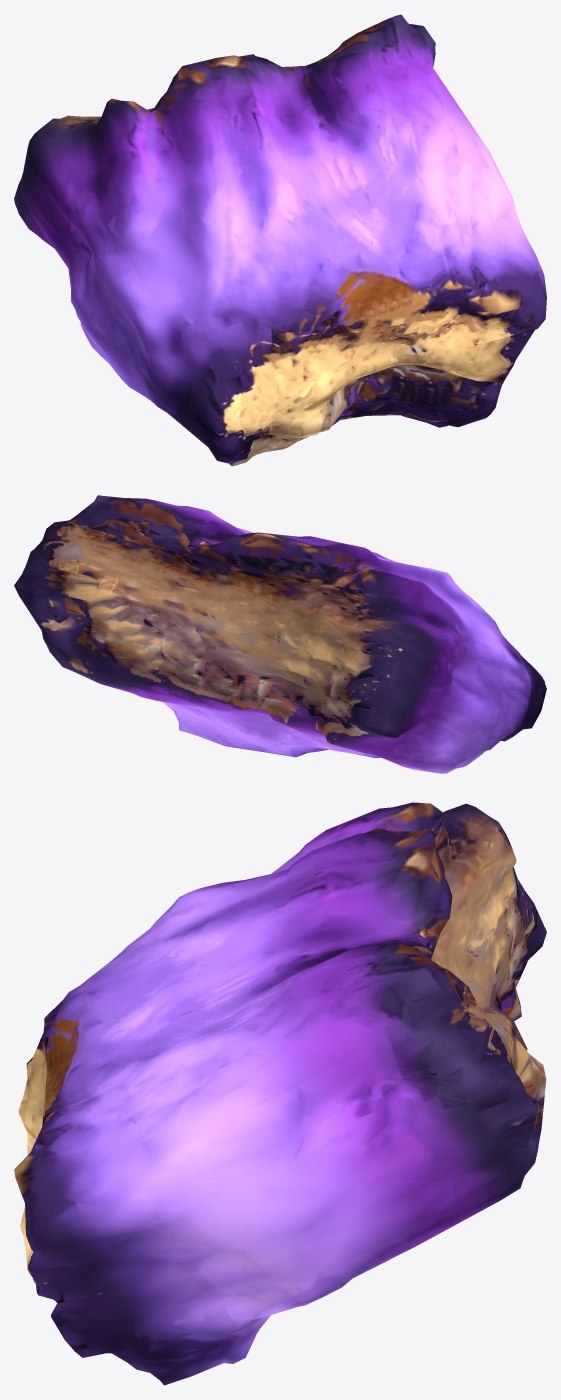
The model's file is eggplant.glb.
3 renders of one model, top to bottom at view 1: azimuth 30°, elevation 25°; view 2: azimuth 150°, elevation 25°; view 3: azimuth 270°, elevation 25°, orthographic. The views are drawn at different scales.
Parts seen in each view (by area): view 1: 茄子low; view 2: 茄子low; view 3: 茄子low.
Boxes of the visible parts, <box> form: 茄子low: <box>14,14,546,466</box>; 茄子low: <box>14,495,546,773</box>; 茄子low: <box>14,802,546,1385</box>.
Bounding box in the file's own units: 0.9232 × 0.6825 × 0.7515.
1 material, 1 textured.
